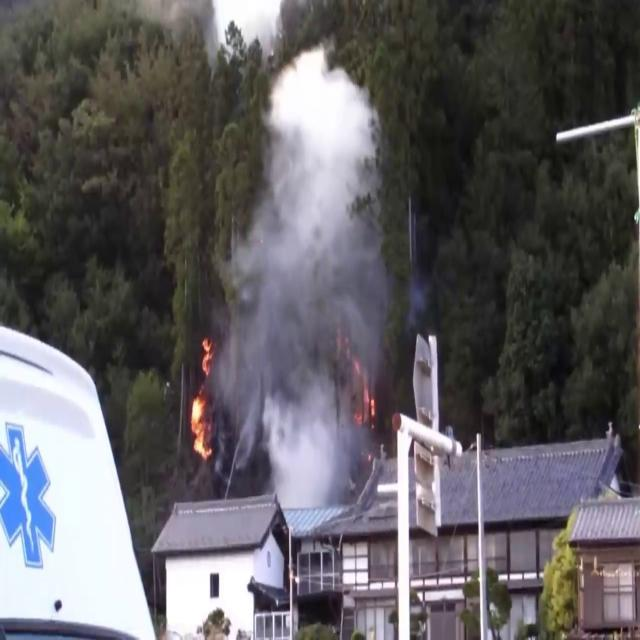Fire: (186, 381, 214, 464)
Smoke: (218, 32, 394, 504)
